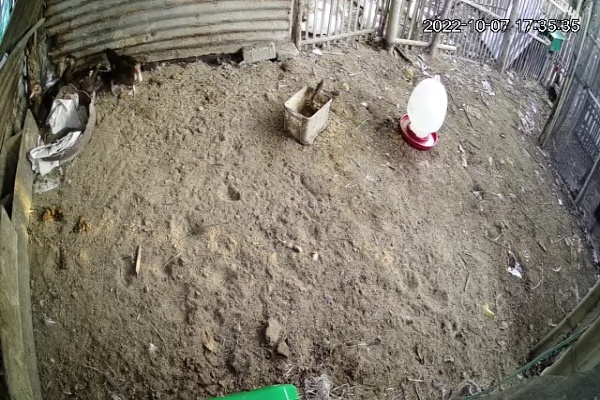Entog: (541, 61, 568, 106)
